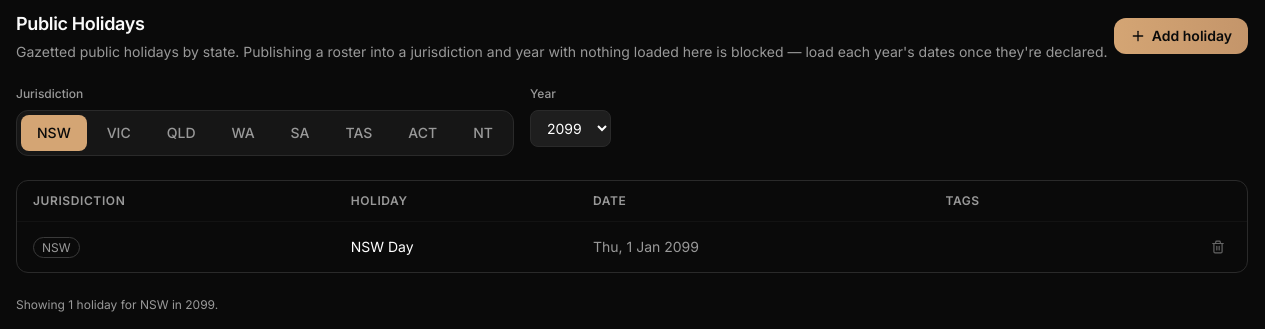
Test case: PublicHolidaysTab › REGRESSION: a slow delete resolving after the user switches jurisdiction re-syncs against the CURRENT filter, not a stale one
The width and height of the screenshot is (1265, 329).
Expected: the text "NSW Day" is shown, [335,222,577,272]
Click the button named "remove nsw day" at [1218, 247], box [1205,234,1231,260]
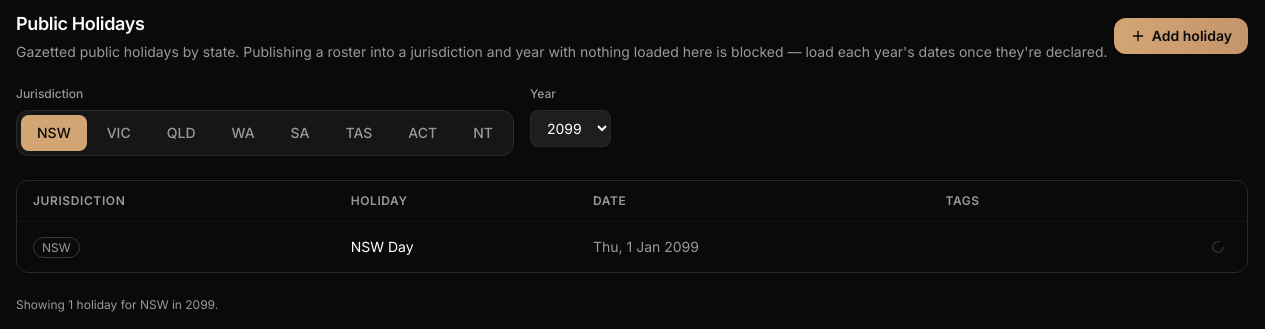
While the delete is still in flight, switch to VIC.
Click the tab "VIC" at [119, 133], box [91,115,147,151]
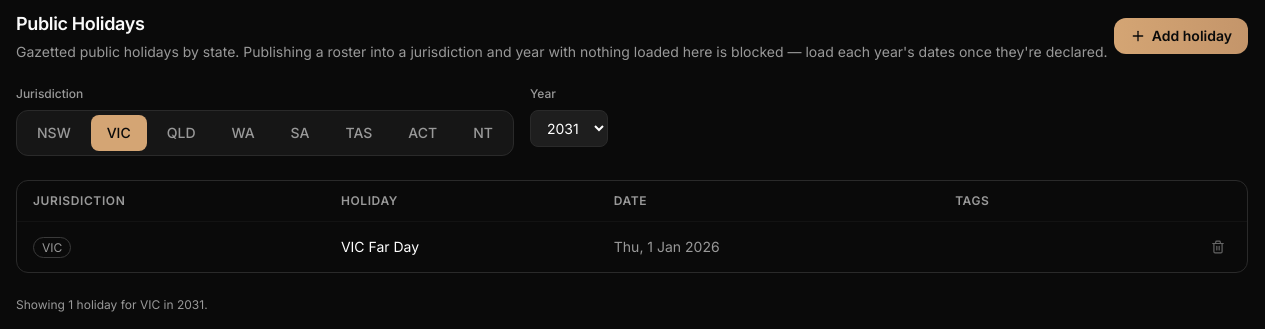
Now the text "VIC Far Day" is shown, box [325,222,598,272]
